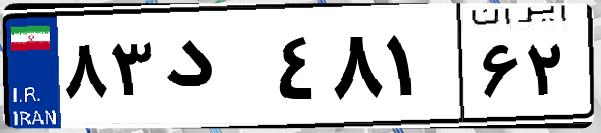1: (385, 28, 445, 110)
2: (525, 38, 570, 115)
3: (110, 28, 158, 98)
4: (270, 28, 330, 110)
6: (475, 38, 525, 113)
8: (330, 28, 385, 110), (57, 26, 110, 100)
د: (158, 20, 270, 120)
